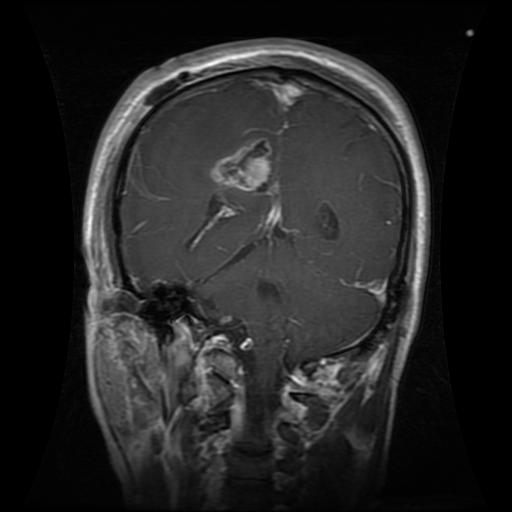Gliomia_tumour: (208, 128, 287, 197)
